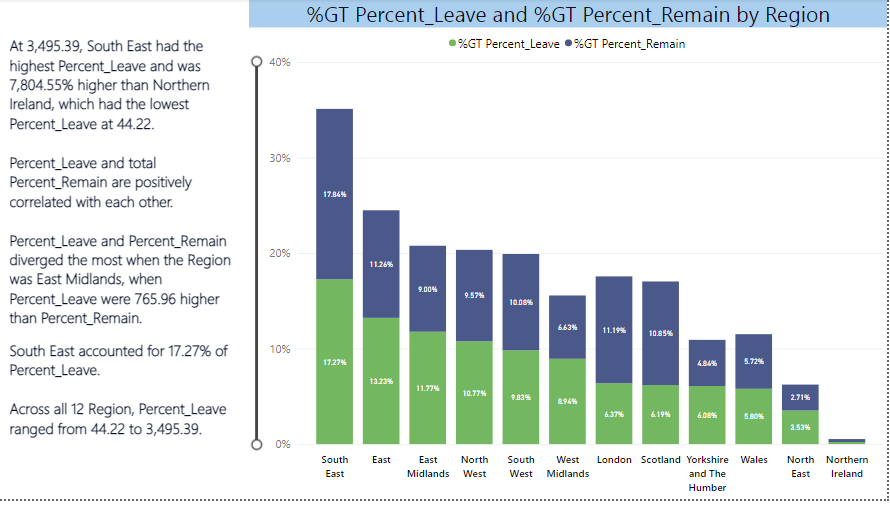

Layout of this report page (visuals, bound fields, positions):
{"tool":"powerbi","page":{"name":"Page 2","canvas":[1280,720],"ordinal":1},"visuals":[{"type":"columnChart","fields":{"Category":["referendum.Region"],"Y":["Sum(referendum.Percent_Leave)","Sum(referendum.Percent_Remain)"]},"box":[360,0,920.2,720],"z":0},{"type":"textbox","box":[10.1,0,349.9,668.2],"z":1000},{"type":"textbox","box":[84,39.9,384,388.1],"z":2000},{"type":"textbox","box":[393.1,0,754.2,178.1],"z":3000},{"type":"textbox","box":[100,100,300,300],"z":3001}]}

Visuals, with their boxes in screenshot pixels (x1, y1, x2, y2), scaled from the page's 1280x720 canvas onto the 890x507 screenshot:
columnChart - referendum.Region x Sum(referendum.Percent_Leave): (250, 0, 889, 506)
textbox: (7, 0, 250, 471)
textbox: (58, 28, 325, 301)
textbox: (273, 0, 798, 125)
textbox: (70, 70, 278, 282)
